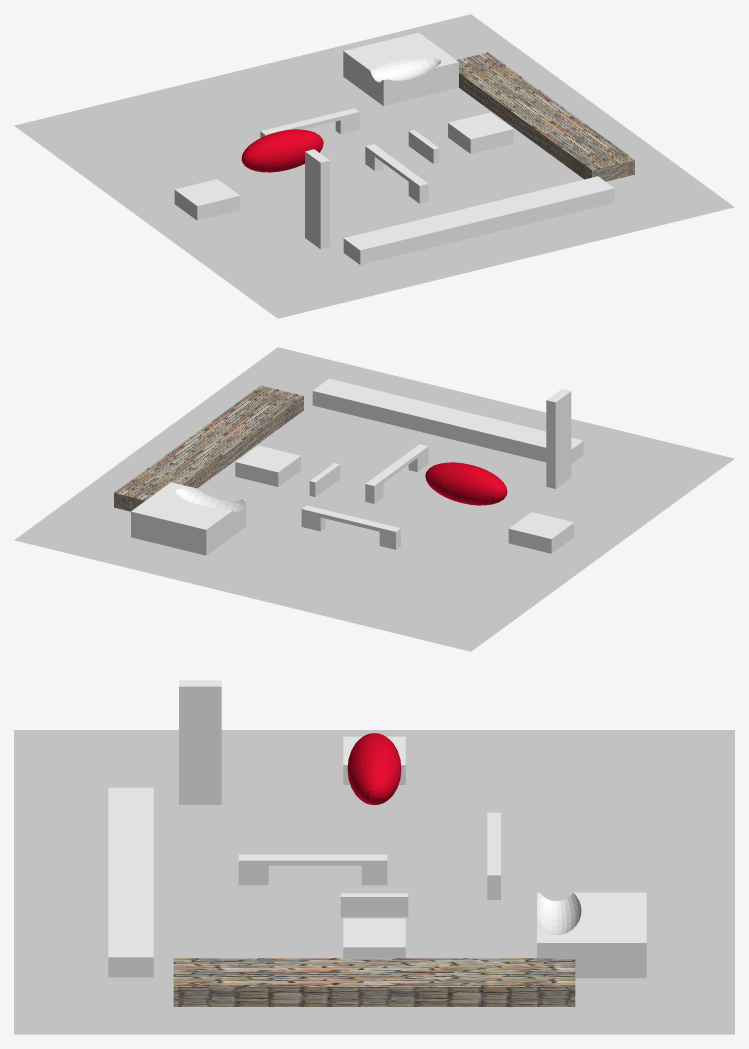
The model's file is pathfind01.glb.
3 renders of one model, top to bottom at view 1: azimuth 30°, elevation 25°; view 2: azimuth 150°, elevation 25°; view 3: azimuth 270°, elevation 25°, orthographic. The views are drawn at different scales.
Visible parts, largest first — view 1: Plane, Cube.006, Cube.007, Cube.004, Sphere, Cube.005, Cube.008, Cube.002, Cube, Cube.003, Cube.001; view 2: Plane, Cube.006, Cube.007, Cube.004, Sphere, Cube.005, Cube.008, Cube.002, Cube.003, Cube, Cube.001; view 3: Plane, Cube.006, Cube.007, Cube.004, Cube.005, Sphere, Cube, Cube.002, Cube.001, Cube.003, Cube.008.
Boxes of the visible parts, x1,y1,x2,y2 form: Plane: (14,14,734,318); Cube.006: (456,52,634,181); Cube.007: (343,176,614,264); Cube.004: (343,32,458,105); Sphere: (241,129,323,172); Cube.005: (305,149,329,249); Cube.008: (174,179,240,220); Cube.002: (448,112,513,153); Cube: (365,144,428,203); Cube.003: (260,108,359,137); Cube.001: (408,130,439,163); Plane: (14,347,734,651); Cube.006: (114,385,303,511); Cube.007: (312,378,583,463); Cube.004: (131,482,246,555); Sphere: (425,462,507,505); Cube.005: (546,389,571,488); Cube.008: (508,512,574,553); Cube.002: (235,445,300,486); Cube.003: (301,505,400,549); Cube: (365,444,428,503); Cube.001: (309,463,340,496); Plane: (14,730,734,1034); Cube.006: (173,958,575,1006); Cube.007: (108,787,153,977); Cube.004: (537,892,646,978); Cube.005: (179,680,221,804); Sphere: (347,733,401,805); Cube: (238,854,387,885); Cube.002: (343,918,405,958); Cube.001: (340,893,408,917); Cube.003: (487,812,500,899); Cube.008: (343,736,405,784).
Size of the model in its own units: 160 by 30.15 by 160.
Materials: 11 (1 with a texture image).
